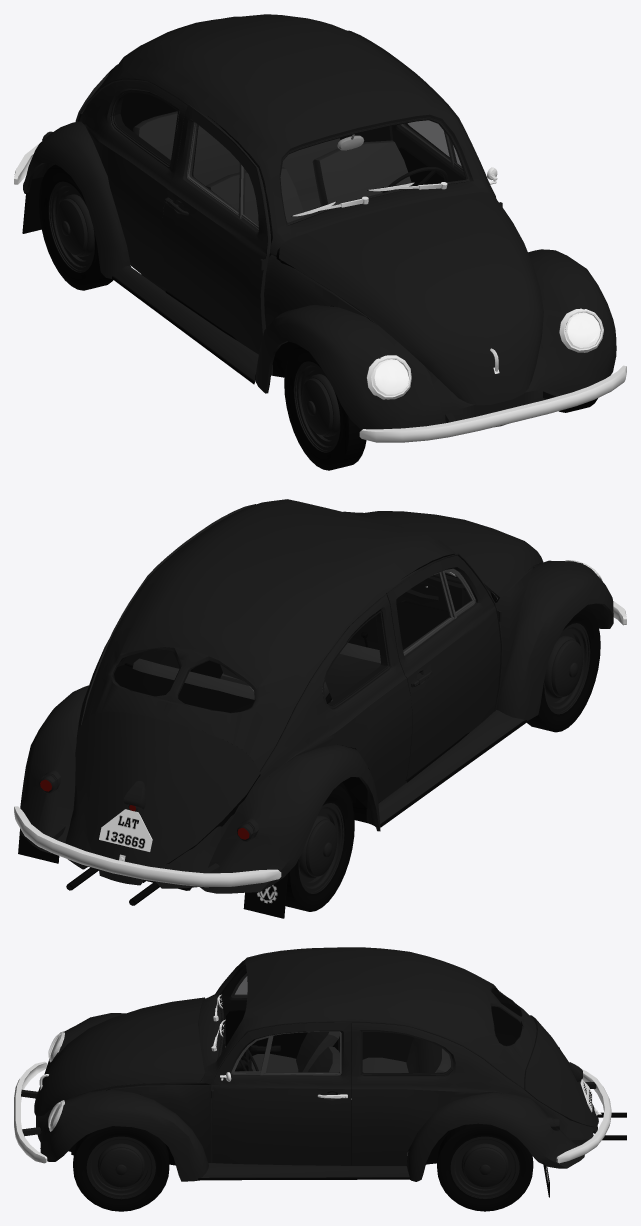
File: vw-beetle.glb
3 views of the same model, one above another, from view 1: azimuth 30°, elevation 25°; view 2: azimuth 150°, elevation 25°; view 3: azimuth 270°, elevation 25° (orthographic). The views are drawn at different scales.
Visible parts, largest first — view 1: body_0042, body_0039, body_0026, body_0152, glass_0138, body_0153, body_0151, body_0073, body_0065, body_0145, body_0051, glass_0038 (+19 smaller); view 2: body_0042, body_0160, body_0026, body_0151, body_0152, body_0150, body_0039, glass_0043, body_0146, body_0051, glass_0038, glass_0139 (+14 smaller); view 3: body_0042, body_0014, body_0039, body_0153, body_0150, body_0160, glass_0024, wheels_0012, wheels_0005, wheels_0004, wheels_0013, glass_0137 (+19 smaller).
Boxes of the visible parts, x1=… form: body_0042: x1=79, y1=14, x2=552, y2=426; body_0039: x1=279, y1=191, x2=543, y2=405; body_0026: x1=161, y1=104, x2=270, y2=354; body_0152: x1=255, y1=305, x2=442, y2=430; glass_0138: x1=280, y1=120, x2=465, y2=222; body_0153: x1=528, y1=249, x2=616, y2=394; body_0151: x1=23, y1=121, x2=130, y2=278; body_0073: x1=312, y1=140, x2=412, y2=205; body_0065: x1=133, y1=111, x2=339, y2=189; body_0145: x1=359, y1=365, x2=626, y2=442; body_0051: x1=113, y1=266, x2=258, y2=380; glass_0038: x1=190, y1=124, x2=258, y2=225; body_0042: x1=65, y1=499, x2=537, y2=888; body_0160: x1=75, y1=711, x2=260, y2=867; body_0026: x1=386, y1=555, x2=500, y2=782; body_0151: x1=199, y1=744, x2=380, y2=893; body_0152: x1=496, y1=560, x2=613, y2=720; body_0150: x1=20, y1=685, x2=88, y2=853; body_0039: x1=354, y1=511, x2=543, y2=598; glass_0043: x1=112, y1=649, x2=255, y2=712; body_0146: x1=14, y1=806, x2=281, y2=887; body_0051: x1=378, y1=710, x2=524, y2=823; glass_0038: x1=396, y1=572, x2=471, y2=651; glass_0139: x1=322, y1=609, x2=387, y2=705; body_0042: x1=36, y1=947, x2=597, y2=1165; body_0014: x1=212, y1=1022, x2=350, y2=1165; body_0039: x1=34, y1=997, x2=205, y2=1116; body_0153: x1=40, y1=1089, x2=208, y2=1181; body_0150: x1=407, y1=1092, x2=584, y2=1181; body_0160: x1=524, y1=1015, x2=598, y2=1127; glass_0024: x1=235, y1=1032, x2=339, y2=1072; wheels_0012: x1=86, y1=1136, x2=155, y2=1199; wheels_0005: x1=437, y1=1123, x2=533, y2=1211; wheels_0004: x1=450, y1=1136, x2=519, y2=1198; wheels_0013: x1=73, y1=1126, x2=169, y2=1211; glass_0137: x1=363, y1=1032, x2=450, y2=1073.
Size of the model in its own units: 1.61 by 1.44 by 4.08.
10 materials, 1 textured.
